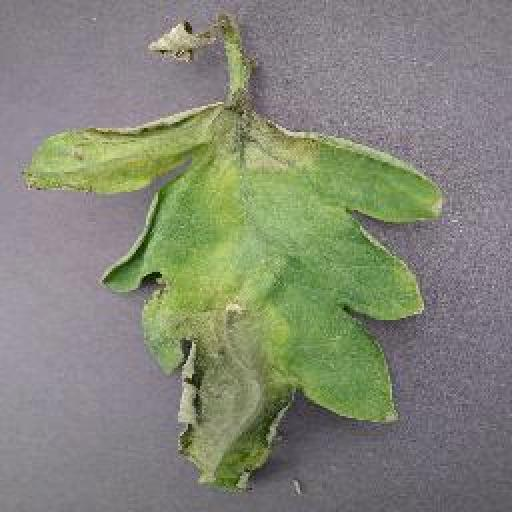disease_tomato: (20, 102, 442, 492)
